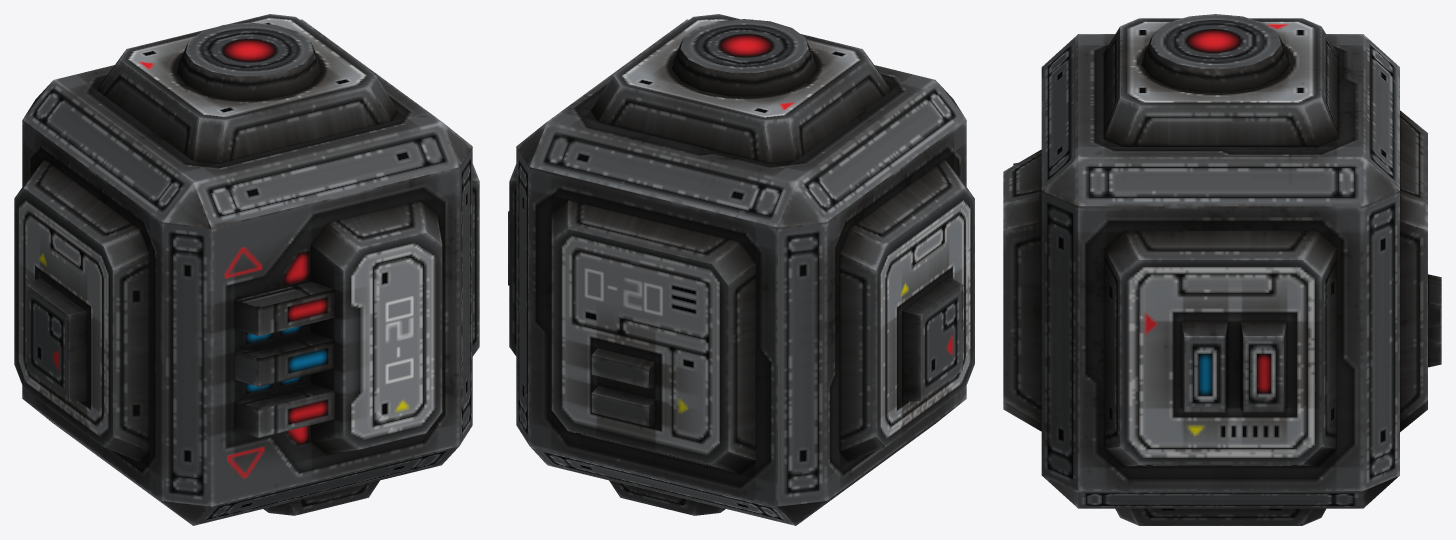
File: Container.fbx
The picture shows the model from 3 angles, left to right: view 1: azimuth 30°, elevation 25°; view 2: azimuth 150°, elevation 25°; view 3: azimuth 270°, elevation 25°; orthographic projection. The views are drawn at different scales.
Parts seen in each view (by area): view 1: sci_fi_space_cargo_container_3; view 2: sci_fi_space_cargo_container_3; view 3: sci_fi_space_cargo_container_3.
Boxes of the visible parts, x1,y1,x2,y2 form: sci_fi_space_cargo_container_3: (14, 14, 479, 525); sci_fi_space_cargo_container_3: (508, 14, 974, 525); sci_fi_space_cargo_container_3: (1003, 14, 1441, 525).
Bounding box in the file's own units: 128 × 131 × 118.
1 material, 1 textured.
